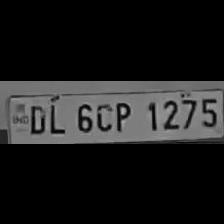1: (138, 97, 158, 130)
2: (158, 96, 180, 130)
5: (197, 94, 219, 128)
6: (72, 99, 94, 133)
7: (178, 94, 196, 128)
C: (92, 98, 112, 132)
D: (26, 102, 46, 134)
L: (46, 99, 66, 134)
P: (110, 98, 134, 132)
